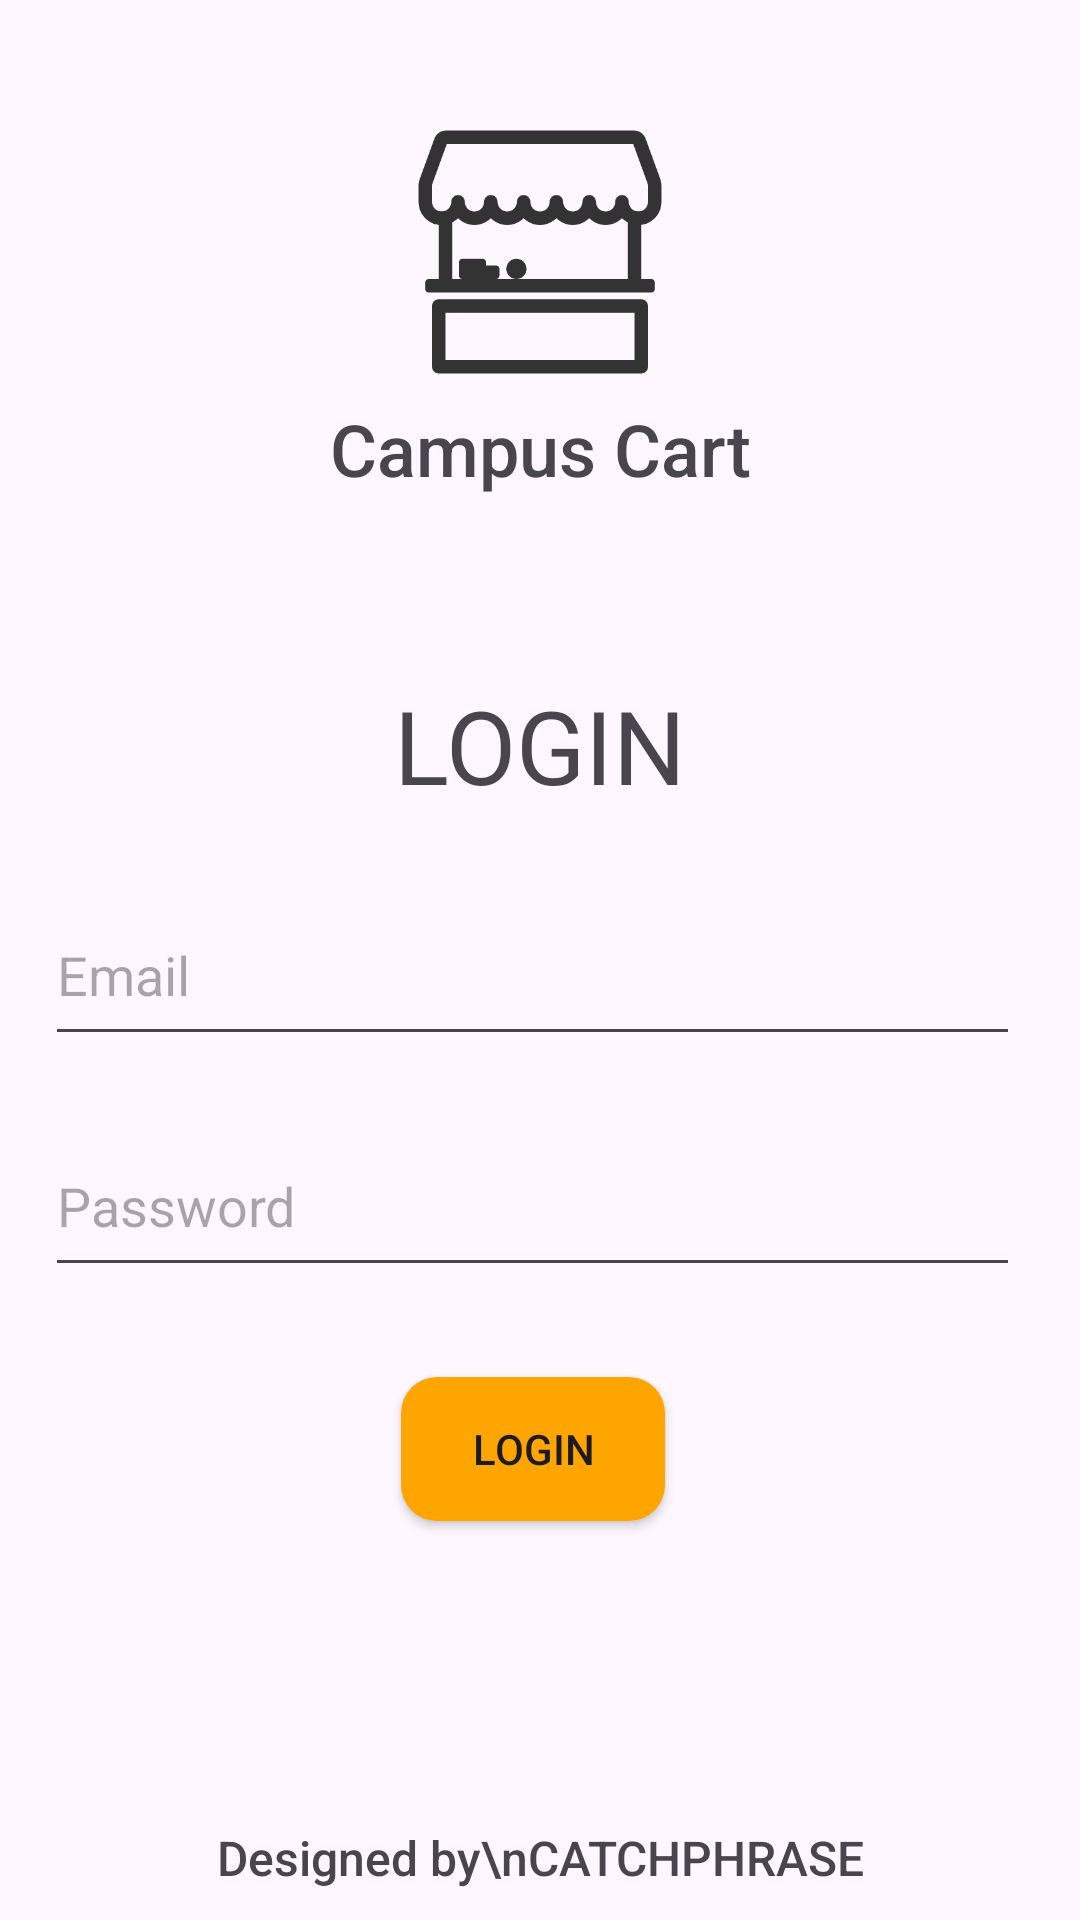

Icons on this 1080×1920 Android screen, each with the point to tap as [x,y]:
market stall: [540,252]
